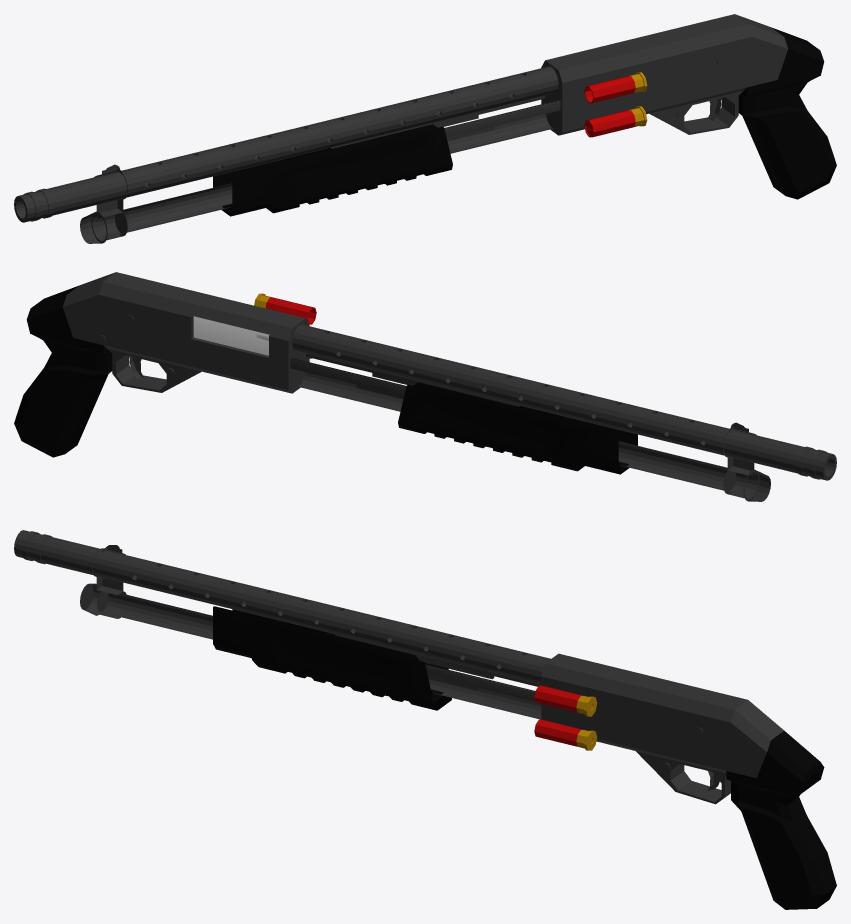
The model's file is Fort 500.fbx.
3 renders of one model, top to bottom at view 1: azimuth 30°, elevation 25°; view 2: azimuth 150°, elevation 25°; view 3: azimuth 330°, elevation 25°, orthographic.
Parts seen in each view (by area): view 1: Cube.003, Cube.001, Cylinder.002, Cylinder.001; view 2: Cube.003, Cube.001, Cylinder.002; view 3: Cube.003, Cube.001, Cylinder.001, Cylinder.002.
Part boxes in pixels (box(x1,y1,x2,y2)): Cube.003: box(14, 14, 836, 243); Cube.001: box(213, 95, 560, 216); Cylinder.002: box(584, 72, 647, 103); Cylinder.001: box(584, 106, 647, 137); Cube.003: box(14, 272, 836, 501); Cube.001: box(193, 316, 637, 474); Cylinder.002: box(254, 293, 316, 324); Cube.003: box(14, 530, 836, 909); Cube.001: box(213, 606, 541, 710); Cylinder.001: box(534, 719, 597, 750); Cylinder.002: box(534, 685, 597, 716).
Bounding box in the file's own units: 995 × 229 × 88.39.
